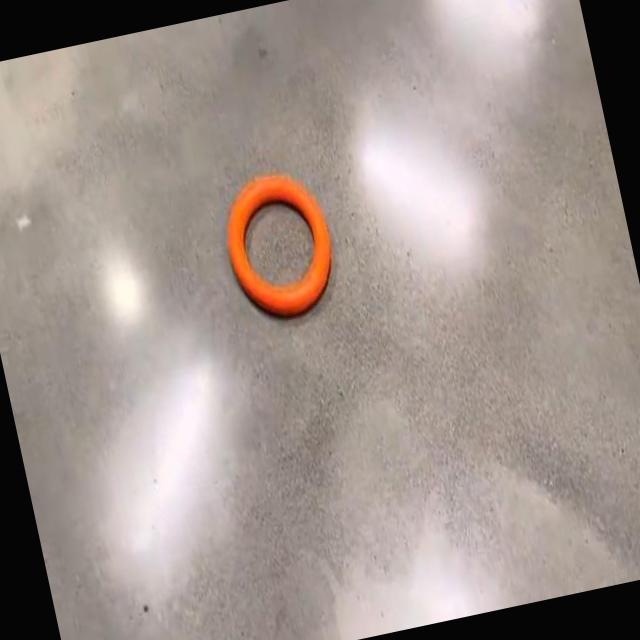note: (227, 175, 331, 316)
